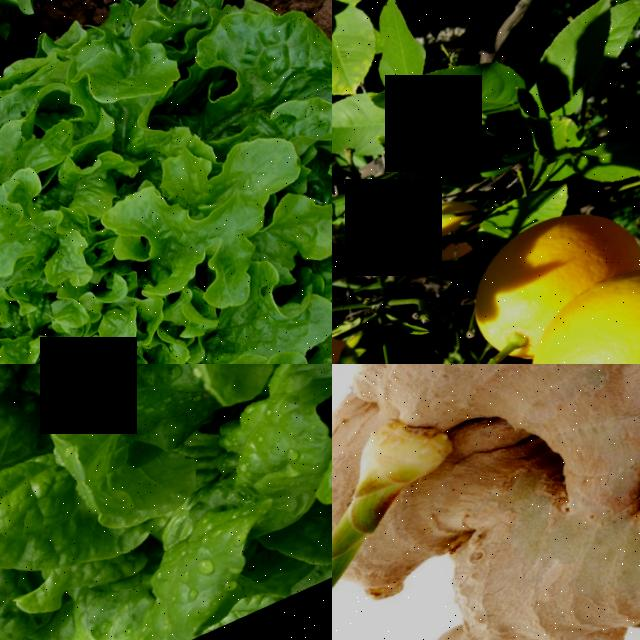ginger: (376, 392, 640, 640), (332, 364, 640, 550)
lemon: (443, 189, 640, 346), (528, 248, 640, 364)
lettuce: (0, 0, 332, 364), (0, 364, 332, 640), (0, 0, 75, 168)
